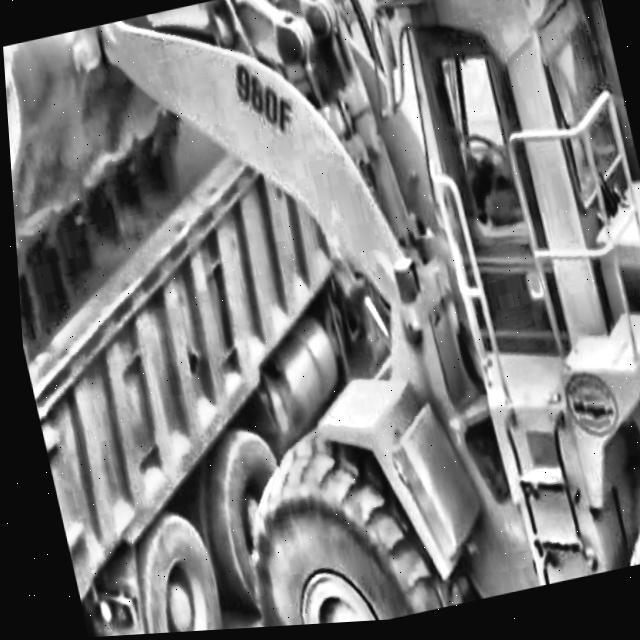buldozerpayloadergrader: (0, 0, 640, 640)
dump_truck: (0, 0, 491, 640)
